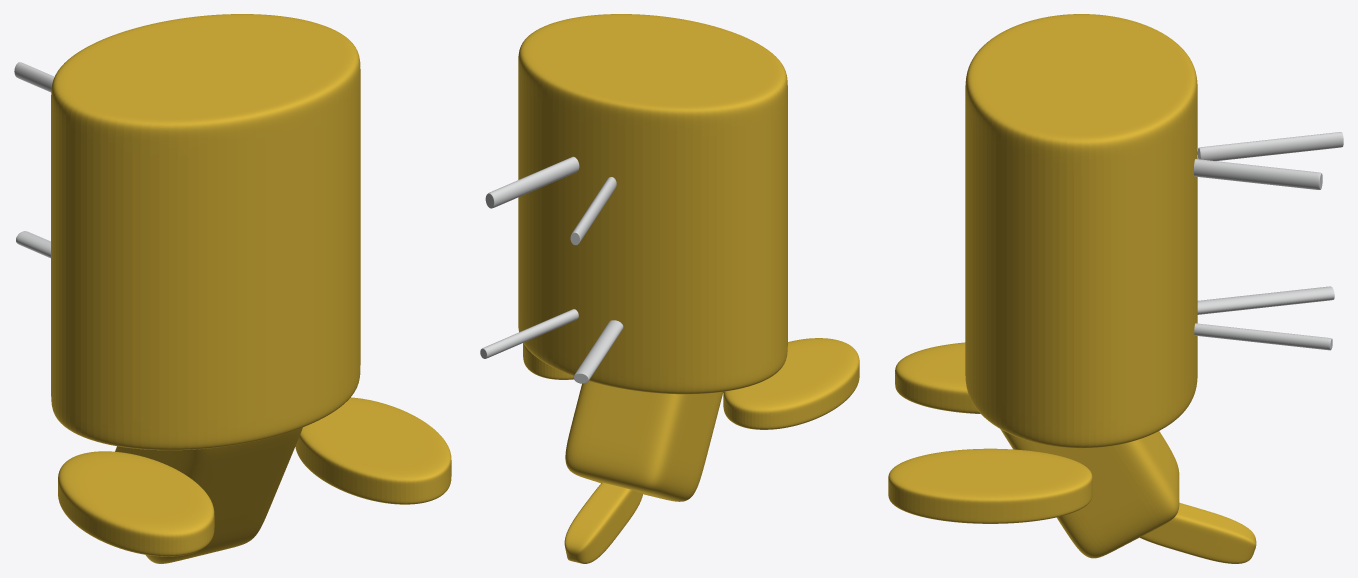
File: 25_20260606T002730Z_toy_elephant_sq.glb
3 views of the same model, side by side, from view 1: azimuth 30°, elevation 25°; view 2: azimuth 150°, elevation 25°; view 3: azimuth 270°, elevation 25° (orthographic). The views are drawn at different scales.
Parts seen in each view (by area): view 1: superquadric_4, superquadric_8, superquadric_5, superquadric_7, superquadric_3, superquadric_1; view 2: superquadric_4, superquadric_7, superquadric_8, superquadric_6, superquadric_2, superquadric_0, superquadric_1, superquadric_3, superquadric_5; view 3: superquadric_4, superquadric_5, superquadric_7, superquadric_8, superquadric_6, superquadric_2, superquadric_3, superquadric_1, superquadric_0.
Boxes of the visible parts, box(x1,y1,x2,y2) form: superquadric_4: box(51, 14, 360, 450); superquadric_8: box(58, 451, 214, 556); superquadric_5: box(295, 397, 451, 504); superquadric_7: box(115, 427, 302, 563); superquadric_3: box(14, 62, 54, 92); superquadric_1: box(16, 231, 50, 258); superquadric_4: box(518, 14, 787, 394); superquadric_7: box(565, 381, 723, 501); superquadric_8: box(723, 338, 859, 429); superquadric_6: box(564, 482, 642, 563); superquadric_2: box(485, 156, 579, 208); superquadric_0: box(480, 309, 578, 358); superquadric_1: box(573, 320, 623, 383); superquadric_3: box(570, 177, 616, 245); superquadric_5: box(523, 343, 573, 379); superquadric_4: box(965, 14, 1197, 448); superquadric_5: box(888, 448, 1092, 523); superquadric_7: box(1000, 429, 1179, 558); superquadric_8: box(895, 342, 980, 413); superquadric_6: box(1139, 502, 1256, 563); superquadric_2: box(1193, 159, 1322, 189); superquadric_3: box(1197, 132, 1343, 160); superquadric_1: box(1197, 286, 1334, 314); superquadric_0: box(1194, 323, 1332, 350).
Bounding box in the file's own units: 0.7079 × 1 × 0.8543.
